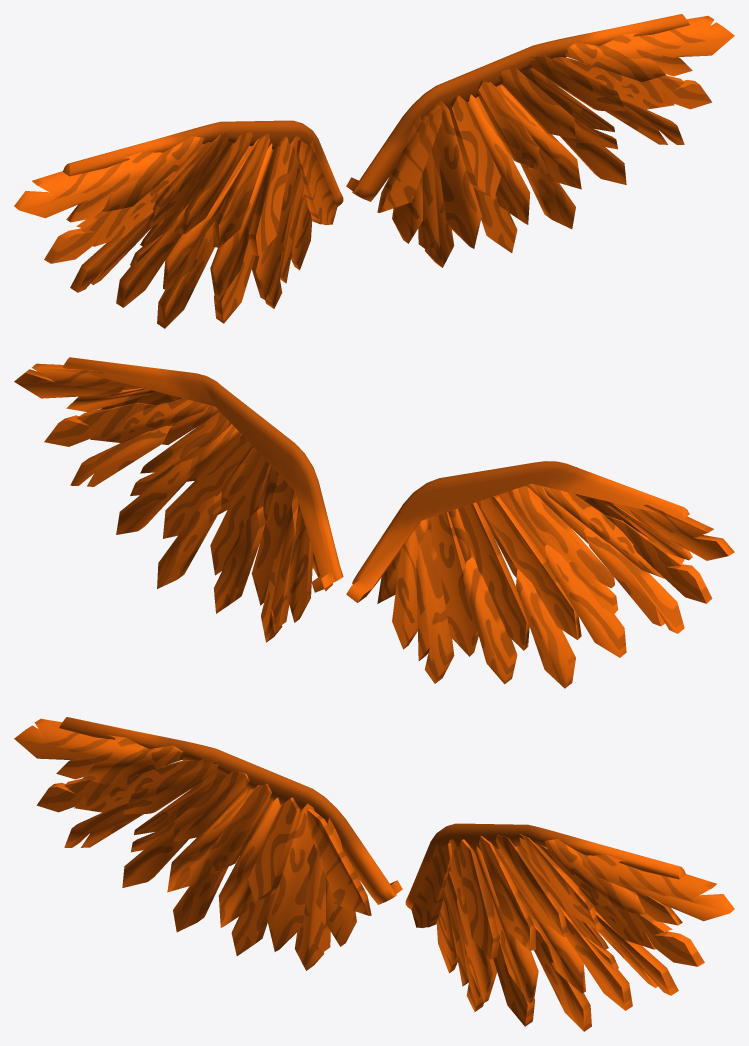
File: wing_wood.fbx
The picture shows the model from 3 angles, top to bottom: view 1: azimuth 30°, elevation 25°; view 2: azimuth 150°, elevation 25°; view 3: azimuth 330°, elevation 25°; orthographic projection.
Visible parts, largest first — view 1: wing_wood; view 2: wing_wood; view 3: wing_wood.
Part boxes in pixels (x1,y1,x2,y2): wing_wood: [14, 14, 734, 328]; wing_wood: [14, 357, 734, 688]; wing_wood: [14, 717, 734, 1031].
Size of the model in its own units: 11.2 by 3.32 by 1.47.
